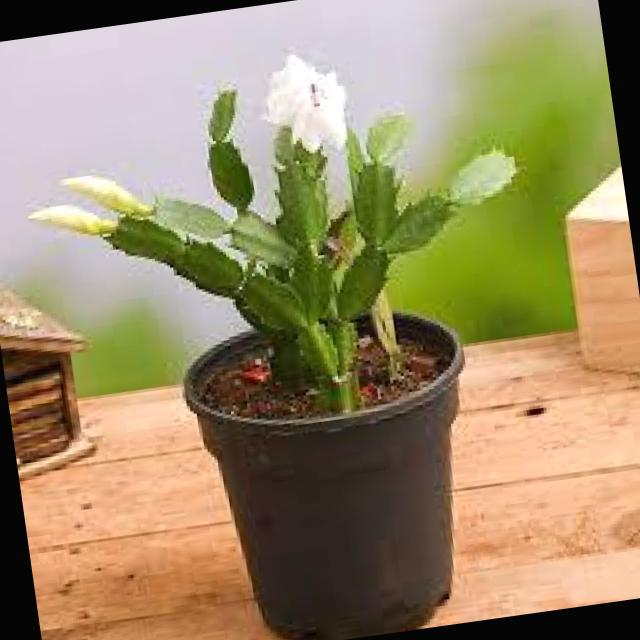cactus: (26, 96, 597, 388)
